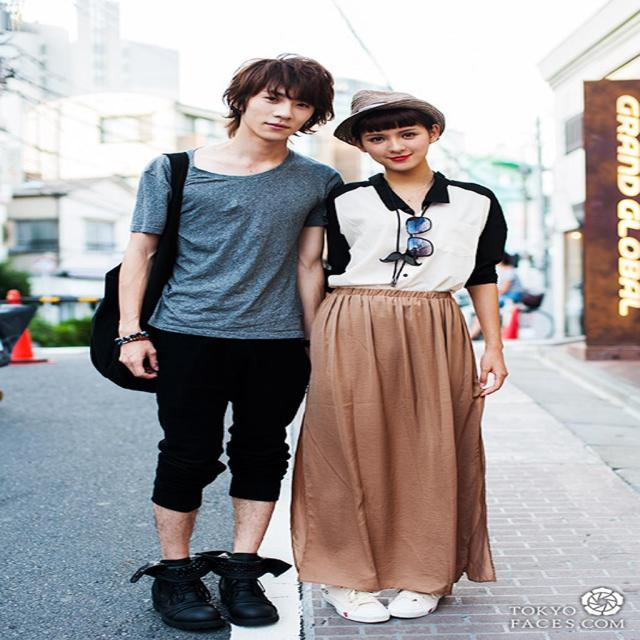Face: (225, 69, 326, 141), (354, 129, 444, 172)
